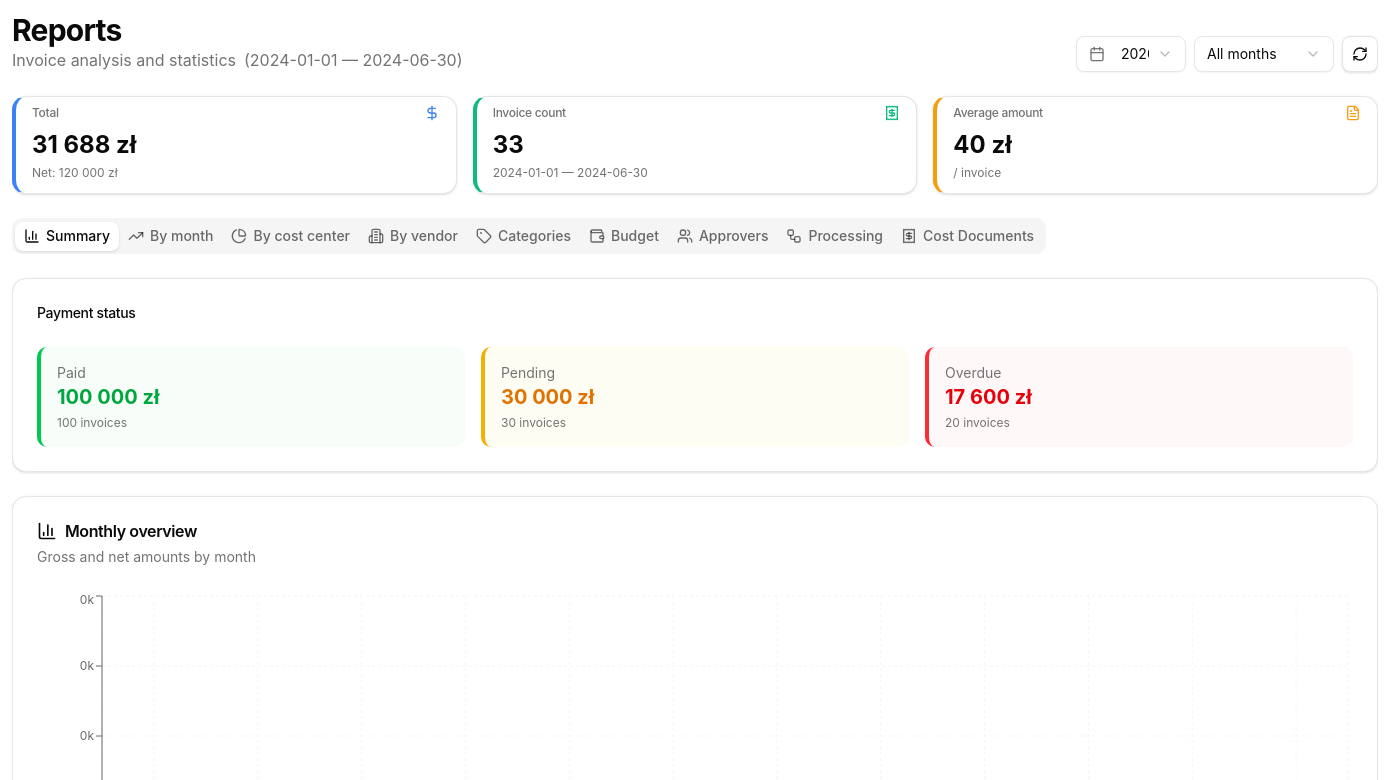
Scenario: ReportsPage › switches to monthly tab and shows table
Click the tab "By month".
click(171, 236)  # box [119, 222, 222, 250]
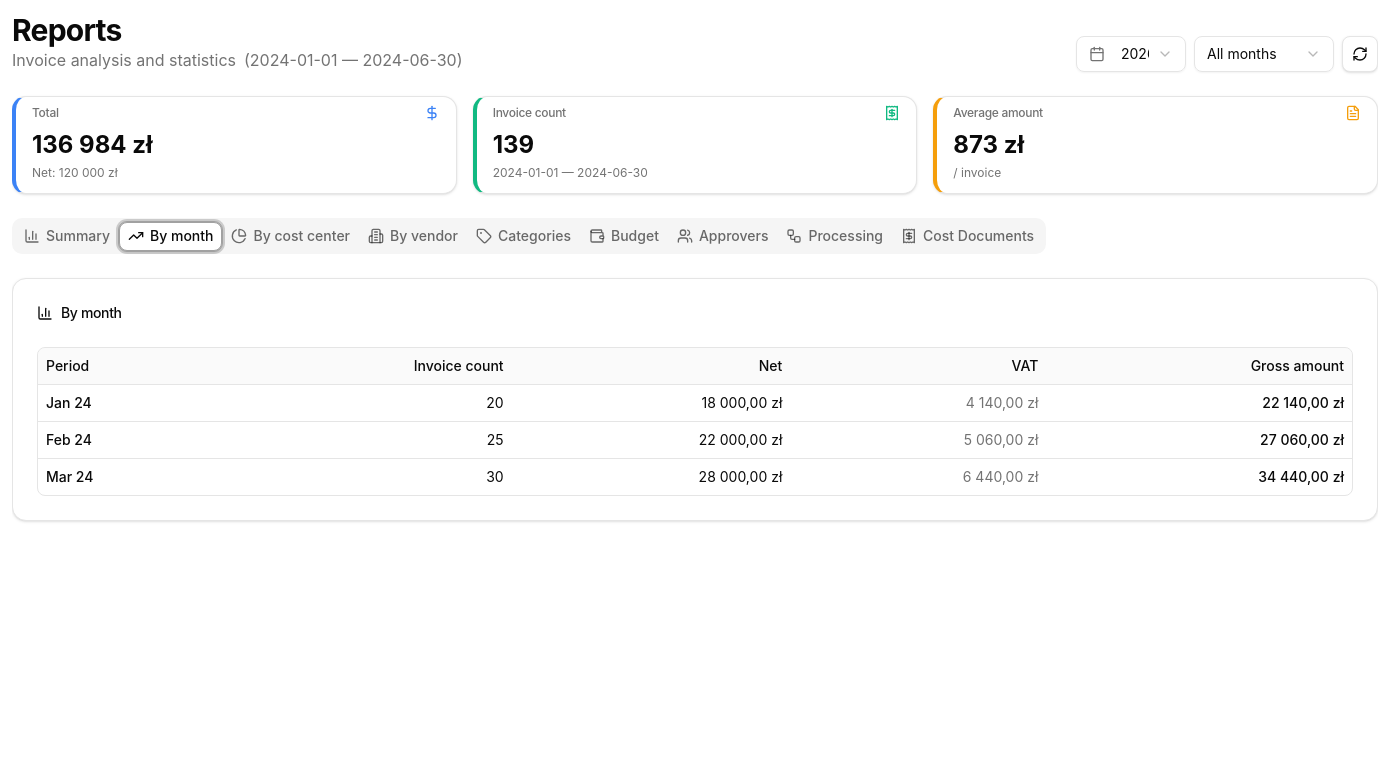
expect the column heading "Net" is shown: met, box [512, 348, 790, 384]
expect the column heading "Period" is shown: met, box [38, 348, 215, 384]
